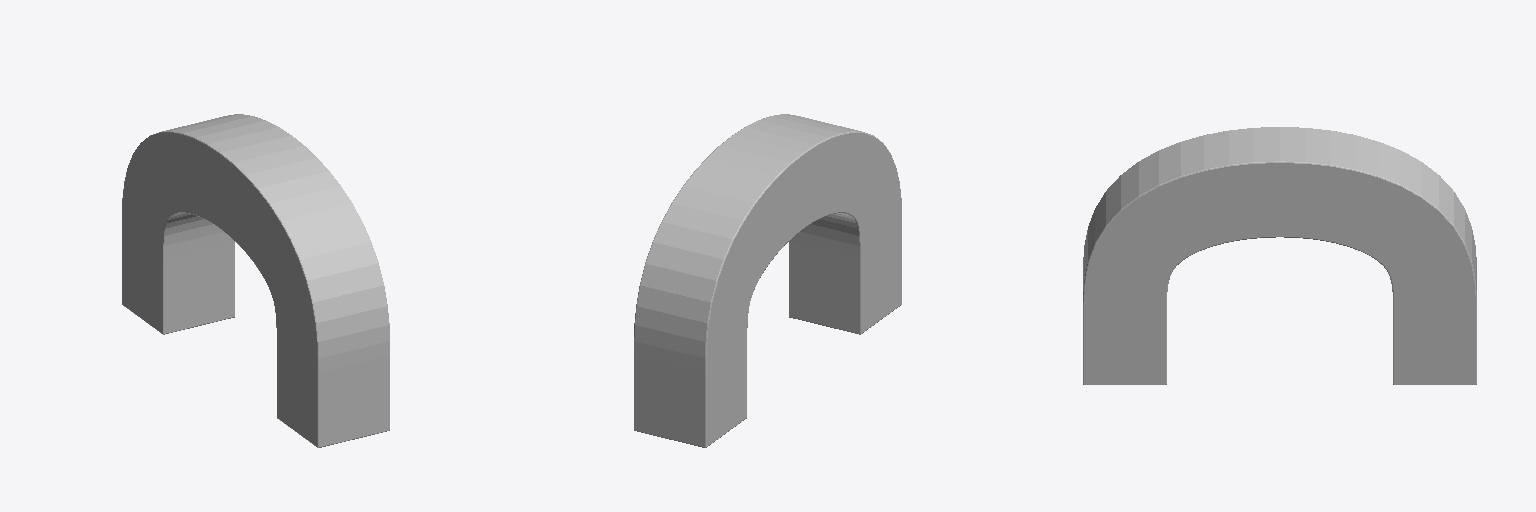
Rendered from Block3ARCH.obj.
The picture shows the model from 3 angles: view 1: azimuth 30°, elevation 25°; view 2: azimuth 150°, elevation 25°; view 3: azimuth 270°, elevation 25°; orthographic projection.
Visible parts, largest first — view 1: pCube5; view 2: pCube5; view 3: pCube5.
Boxes of the visible parts, <box> form: pCube5: <box>122,114,389,447</box>; pCube5: <box>634,114,901,447</box>; pCube5: <box>1083,127,1476,384</box>.
Bounding box in the file's own units: 200 × 588 × 938.